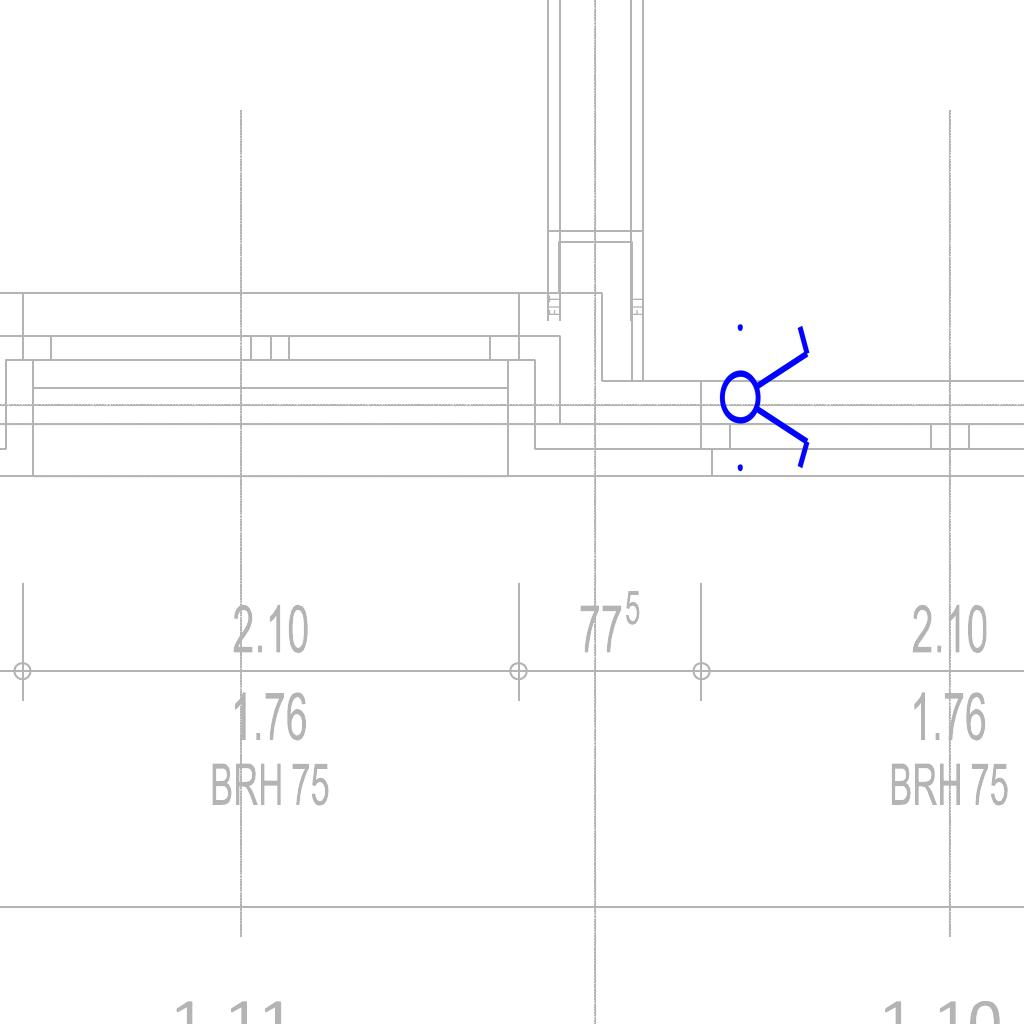Serienschalter: (718, 312, 814, 480)
